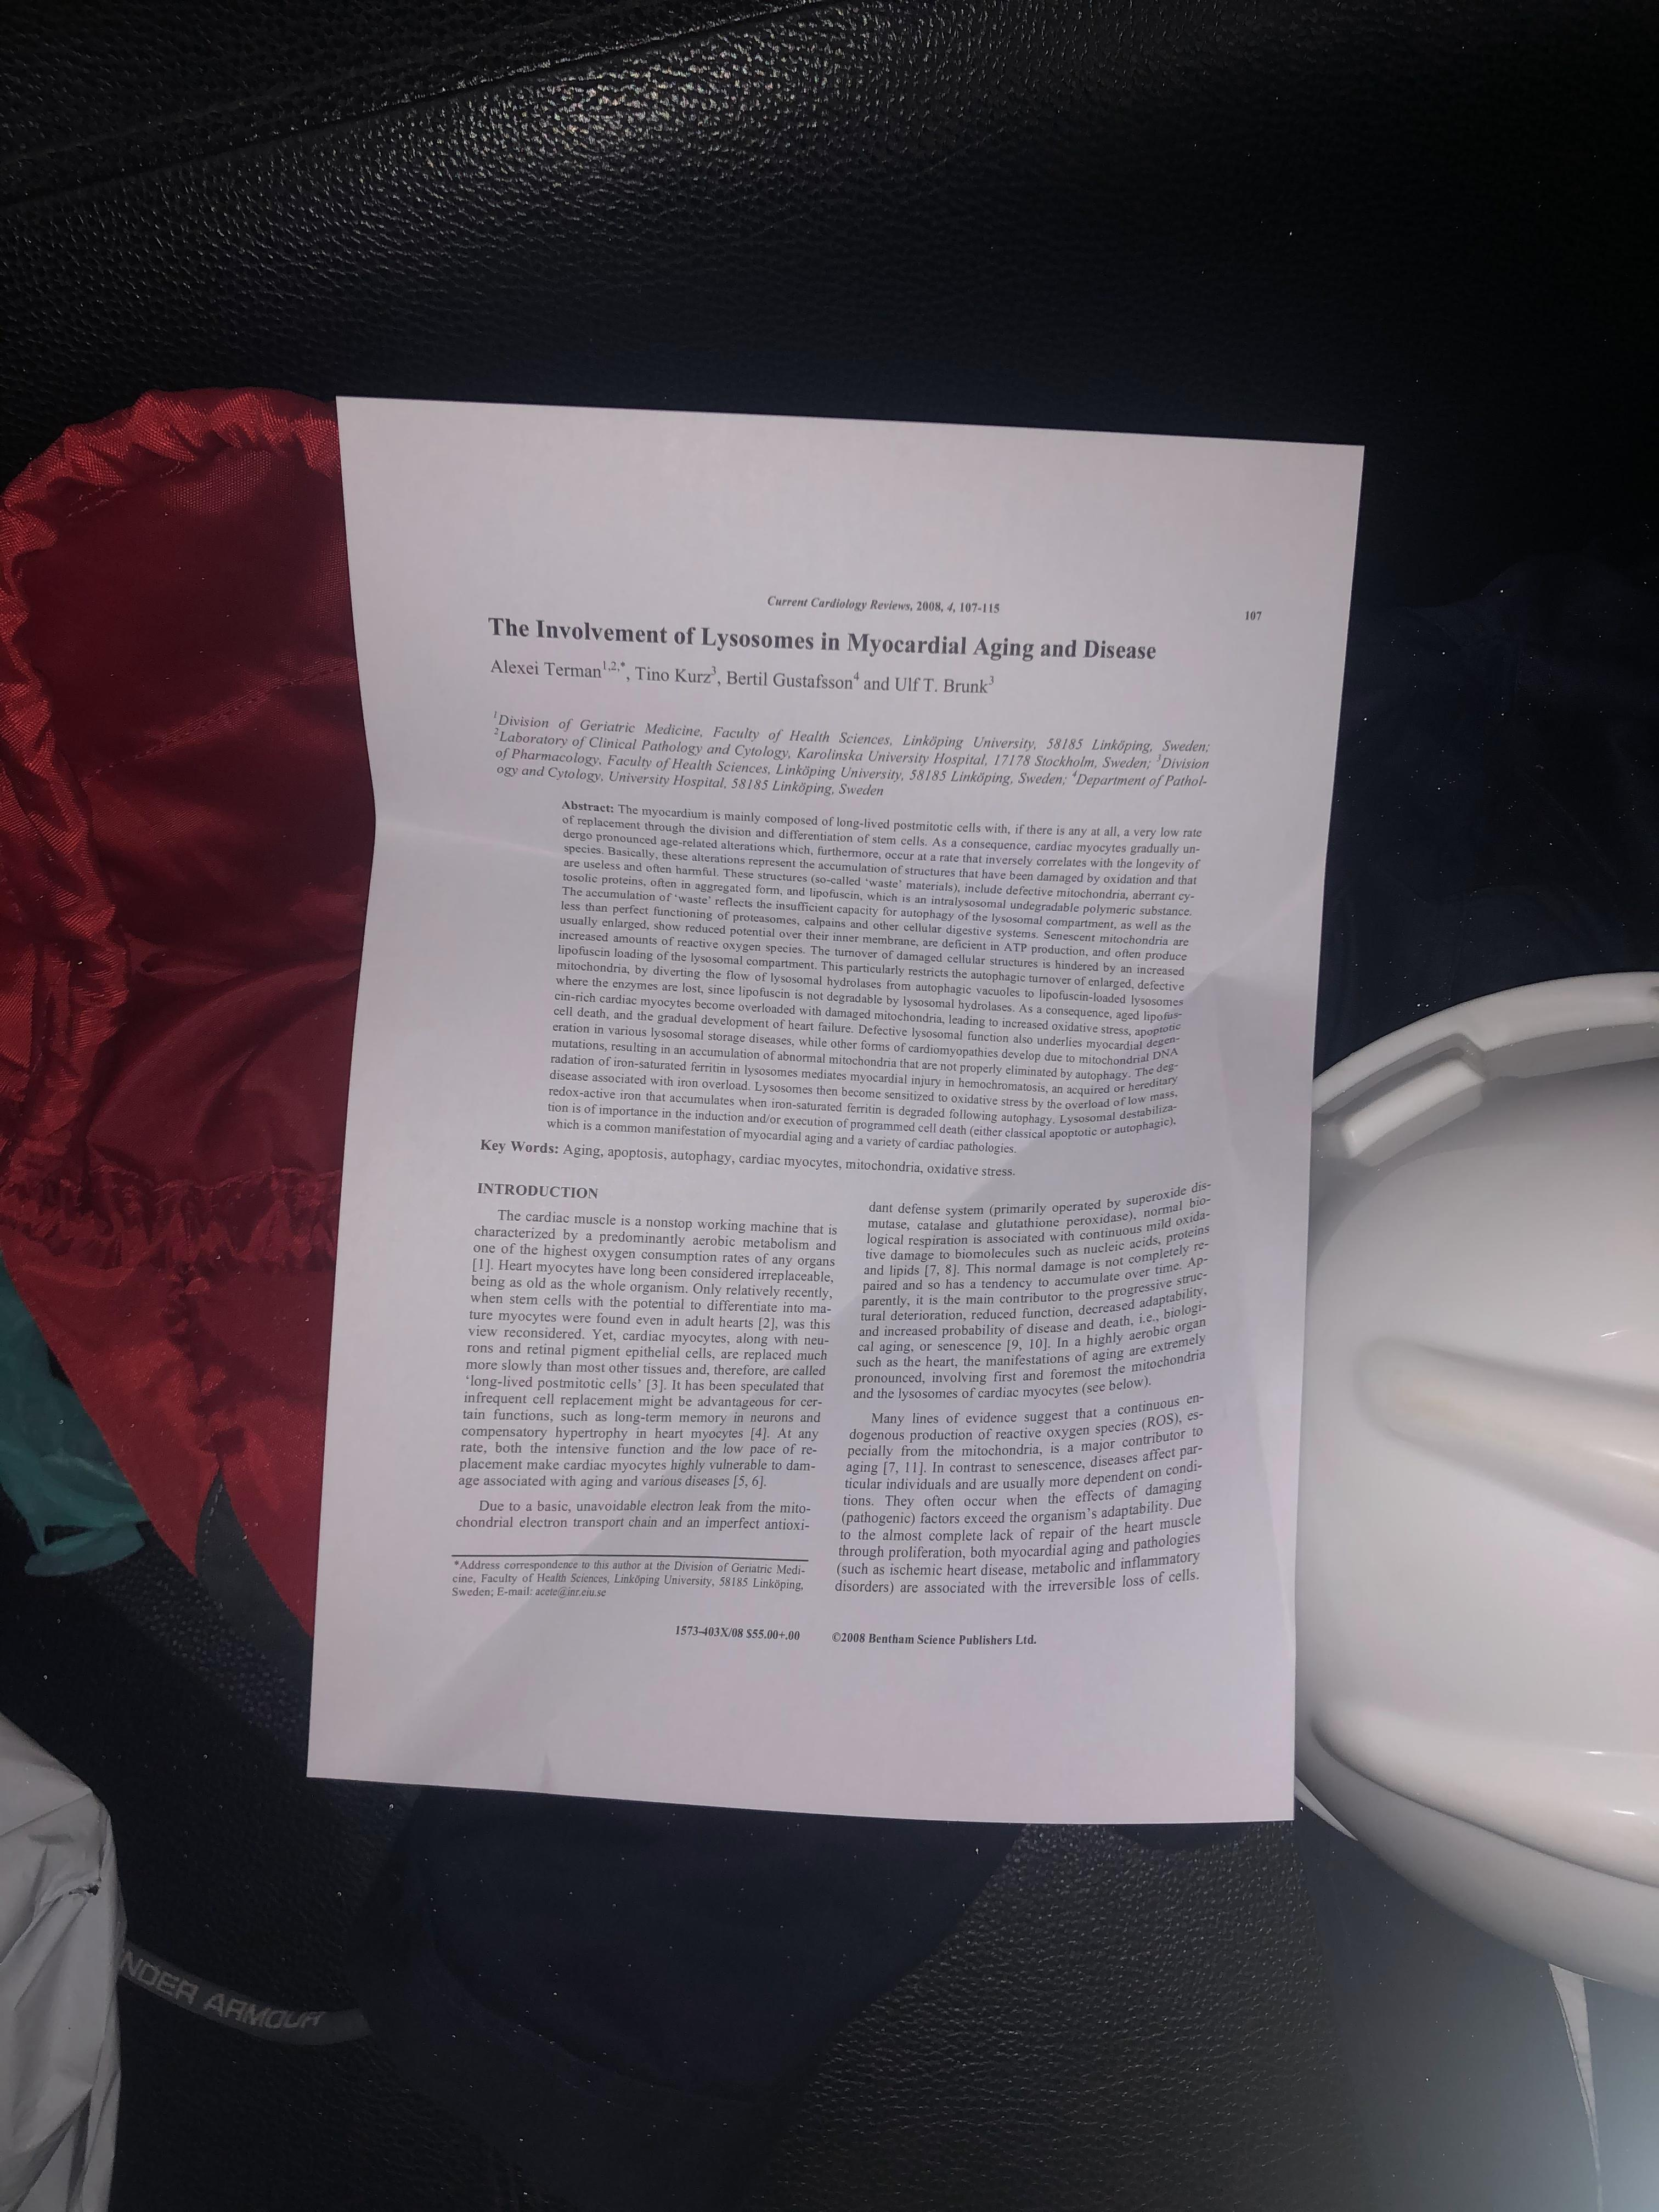paper: (162, 216, 1542, 2212)
